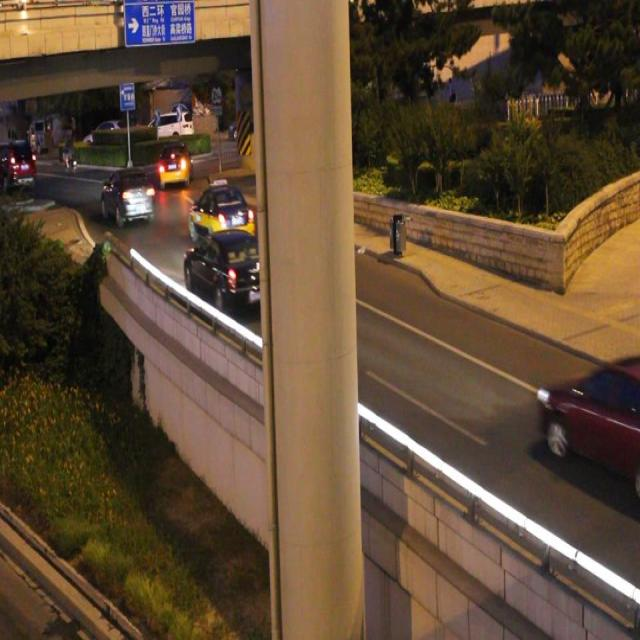car: (536, 353, 640, 494), (185, 227, 276, 321), (188, 178, 256, 248), (101, 167, 155, 225), (158, 141, 191, 186)
